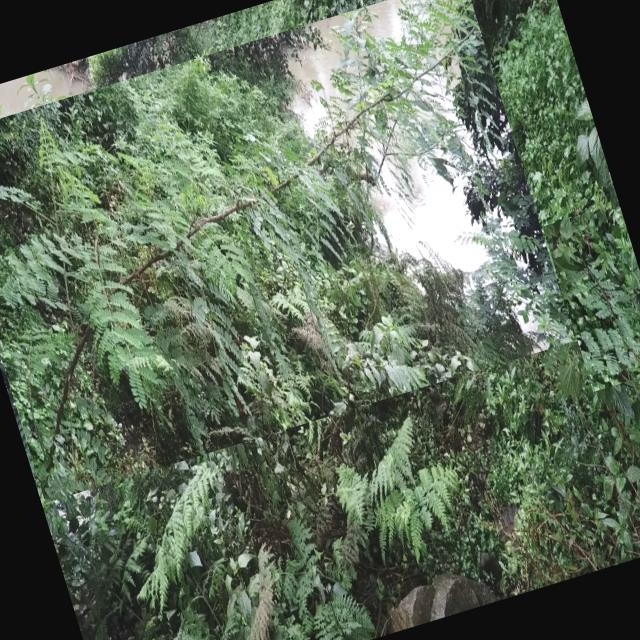Mysore-Thorn-Weed: (0, 0, 575, 502), (542, 207, 640, 392)
